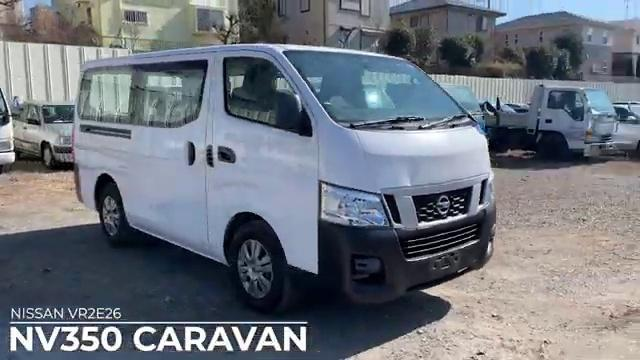van: (71, 39, 499, 308)
